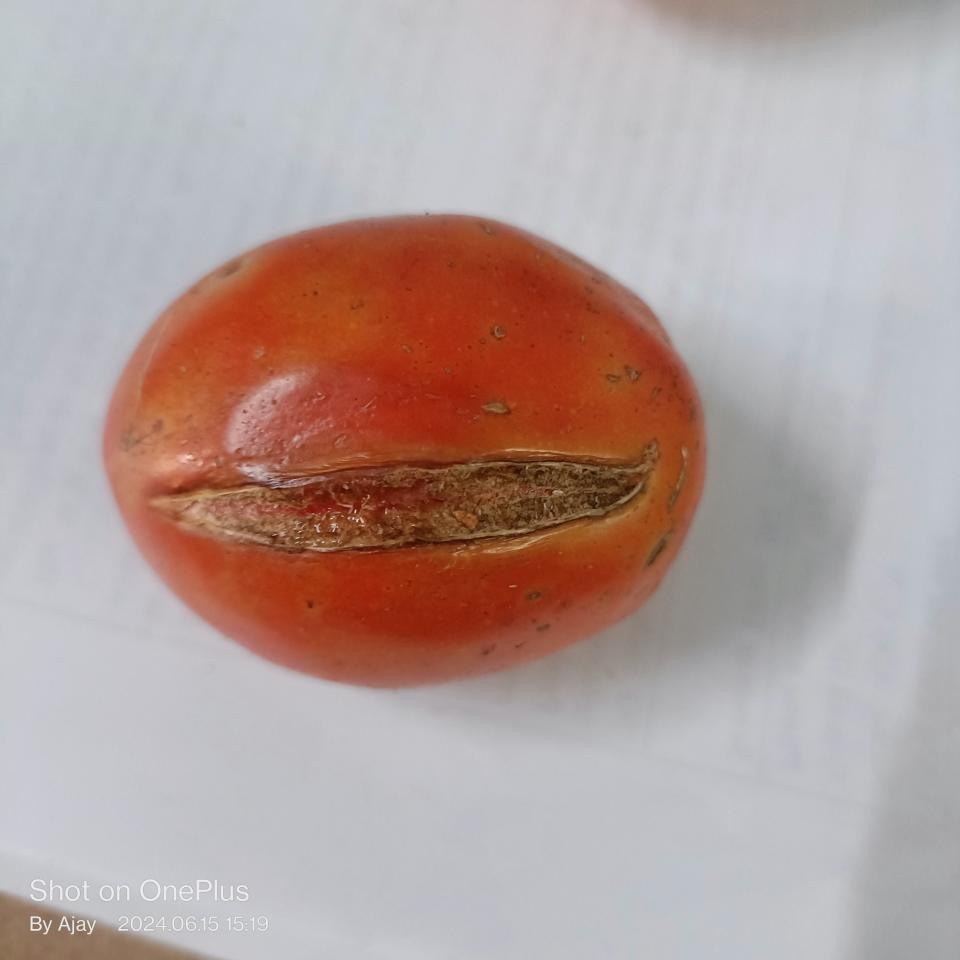Cracking: (149, 457, 653, 552)
